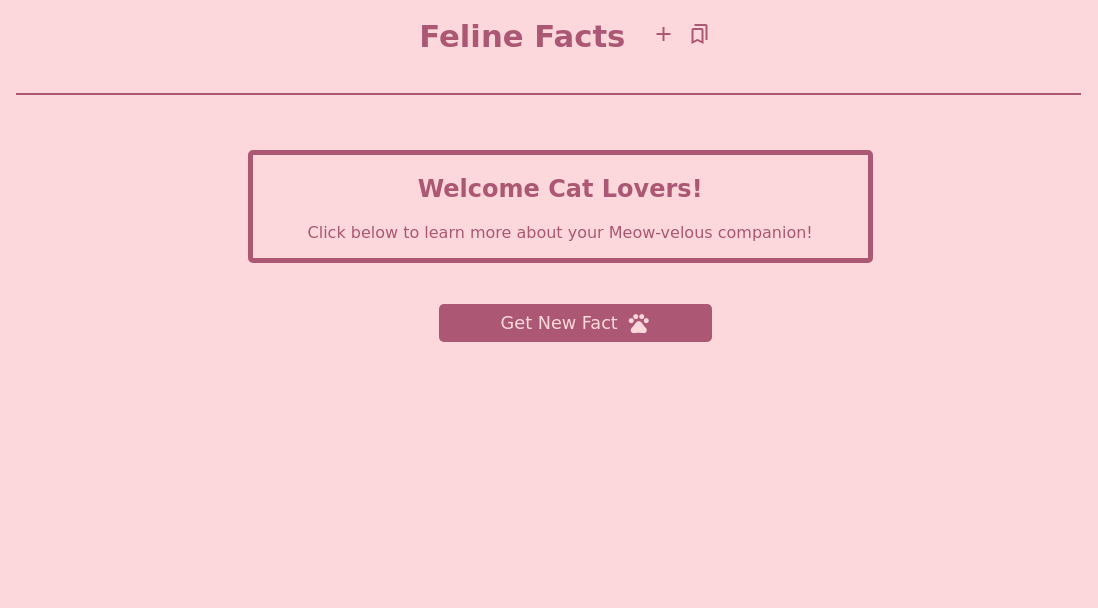
Test: should allow the user to save a fact and delete the fact on the saved fact page
The width and height of the screenshot is (1098, 608).
Click the button with class "get-random-button". click: point(576, 323)
box: [439,304,712,342]
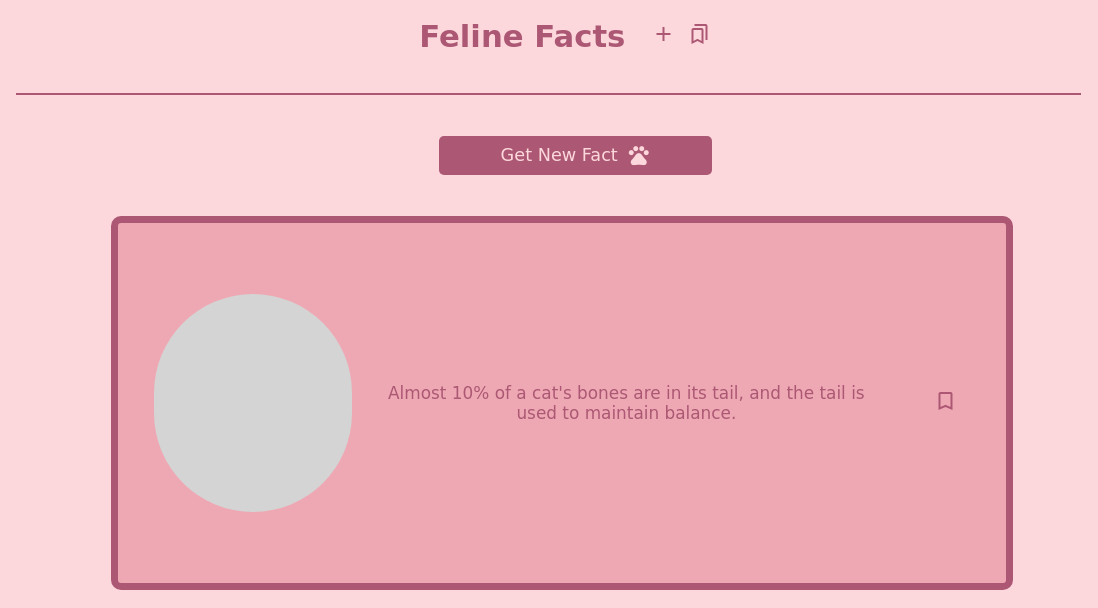
Expected: the element with class "fact-container" is shown, [111,216,1013,591]
Expected: the text "Almost 10% of a cat's bones are in its tail, and the tail is used to maintain balance." is shown, [388,383,865,423]
Expected: the button with class "save-button" is shown
Click the button with class "save-button". click: point(946, 404)
box: [928,389,964,418]
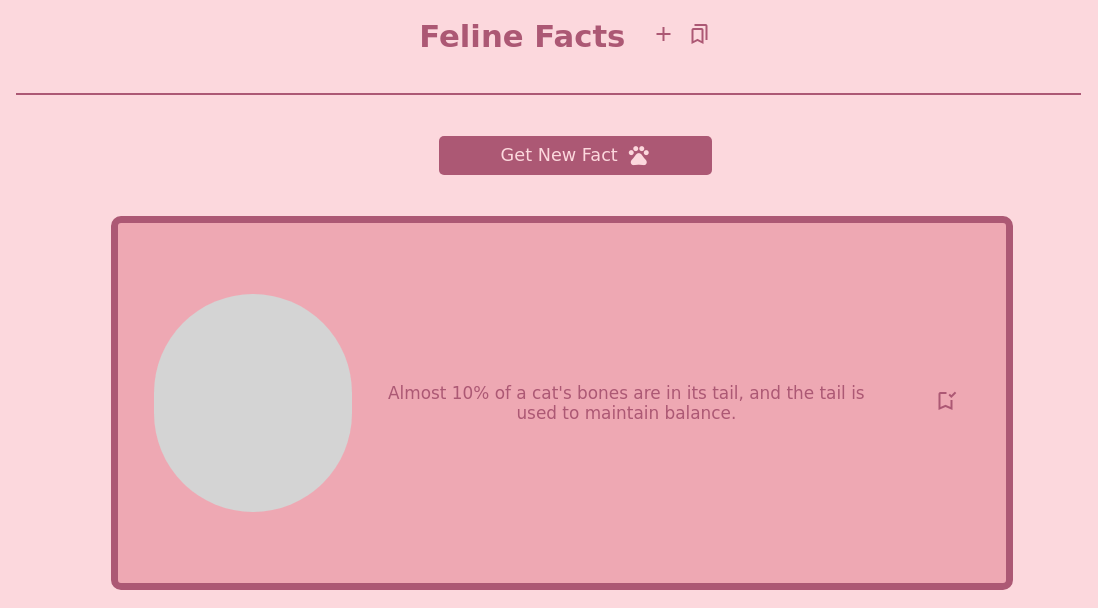
Click the button with class "saved-button". click: point(699, 35)
box: [681,16,717,54]
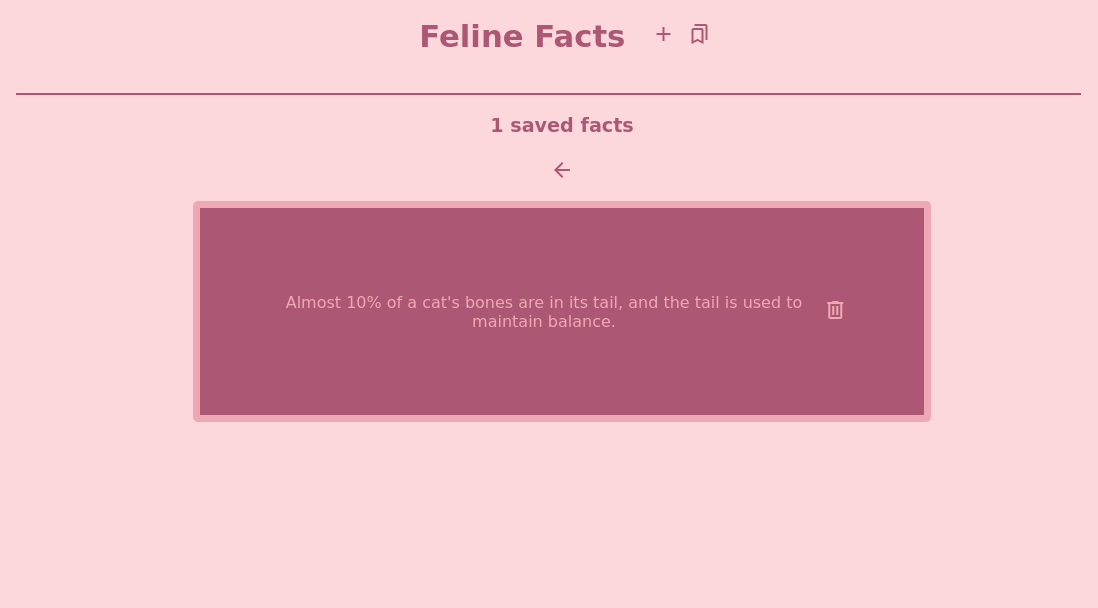
Expected: the heading "1 saved facts" is shown, [490,114,634,137]
Expected: the button with class "delete-button" is shown
Click the button with class "delete-button". click: point(835, 312)
box: [817,297,853,326]
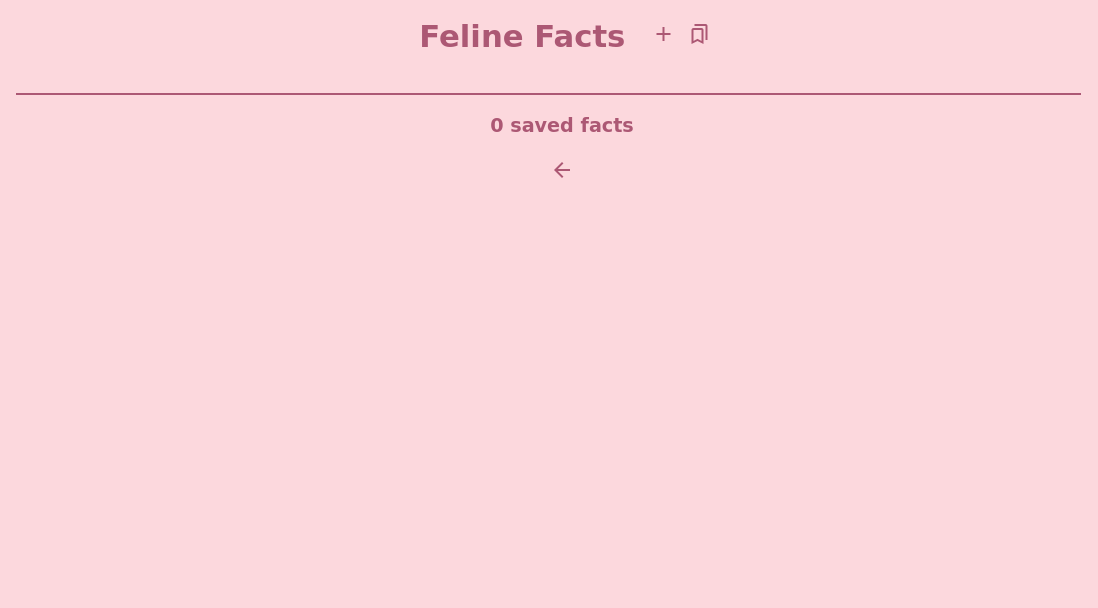
Expected: the element with class "saved-card" is gone
Click the button with class "back-button". click: point(562, 172)
box: [544,157,580,186]
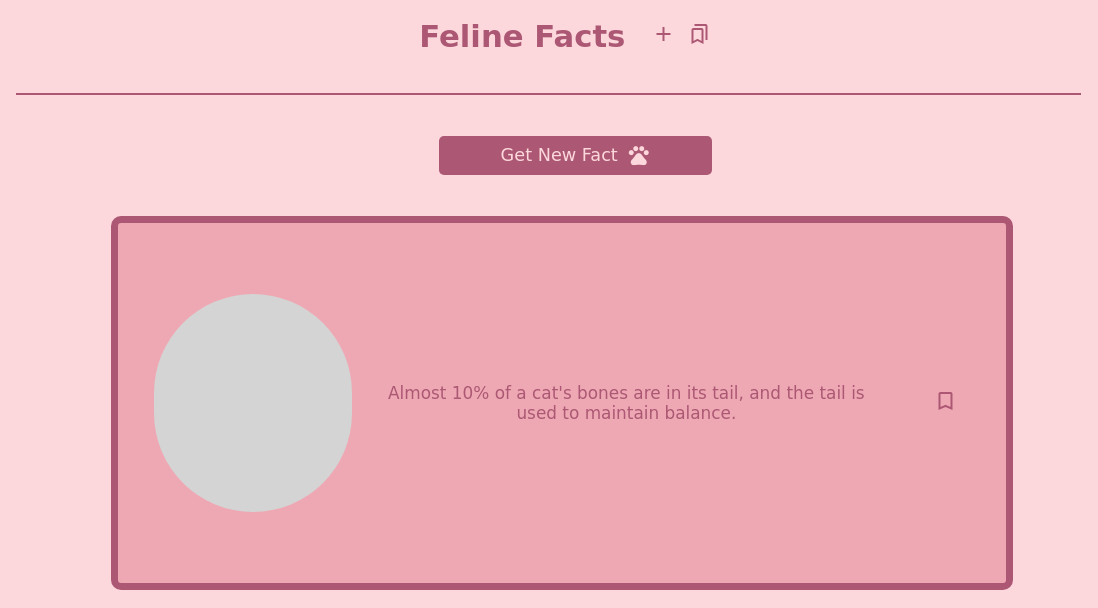
Expected: the element with class "fact-container" is shown, [111,216,1013,591]
